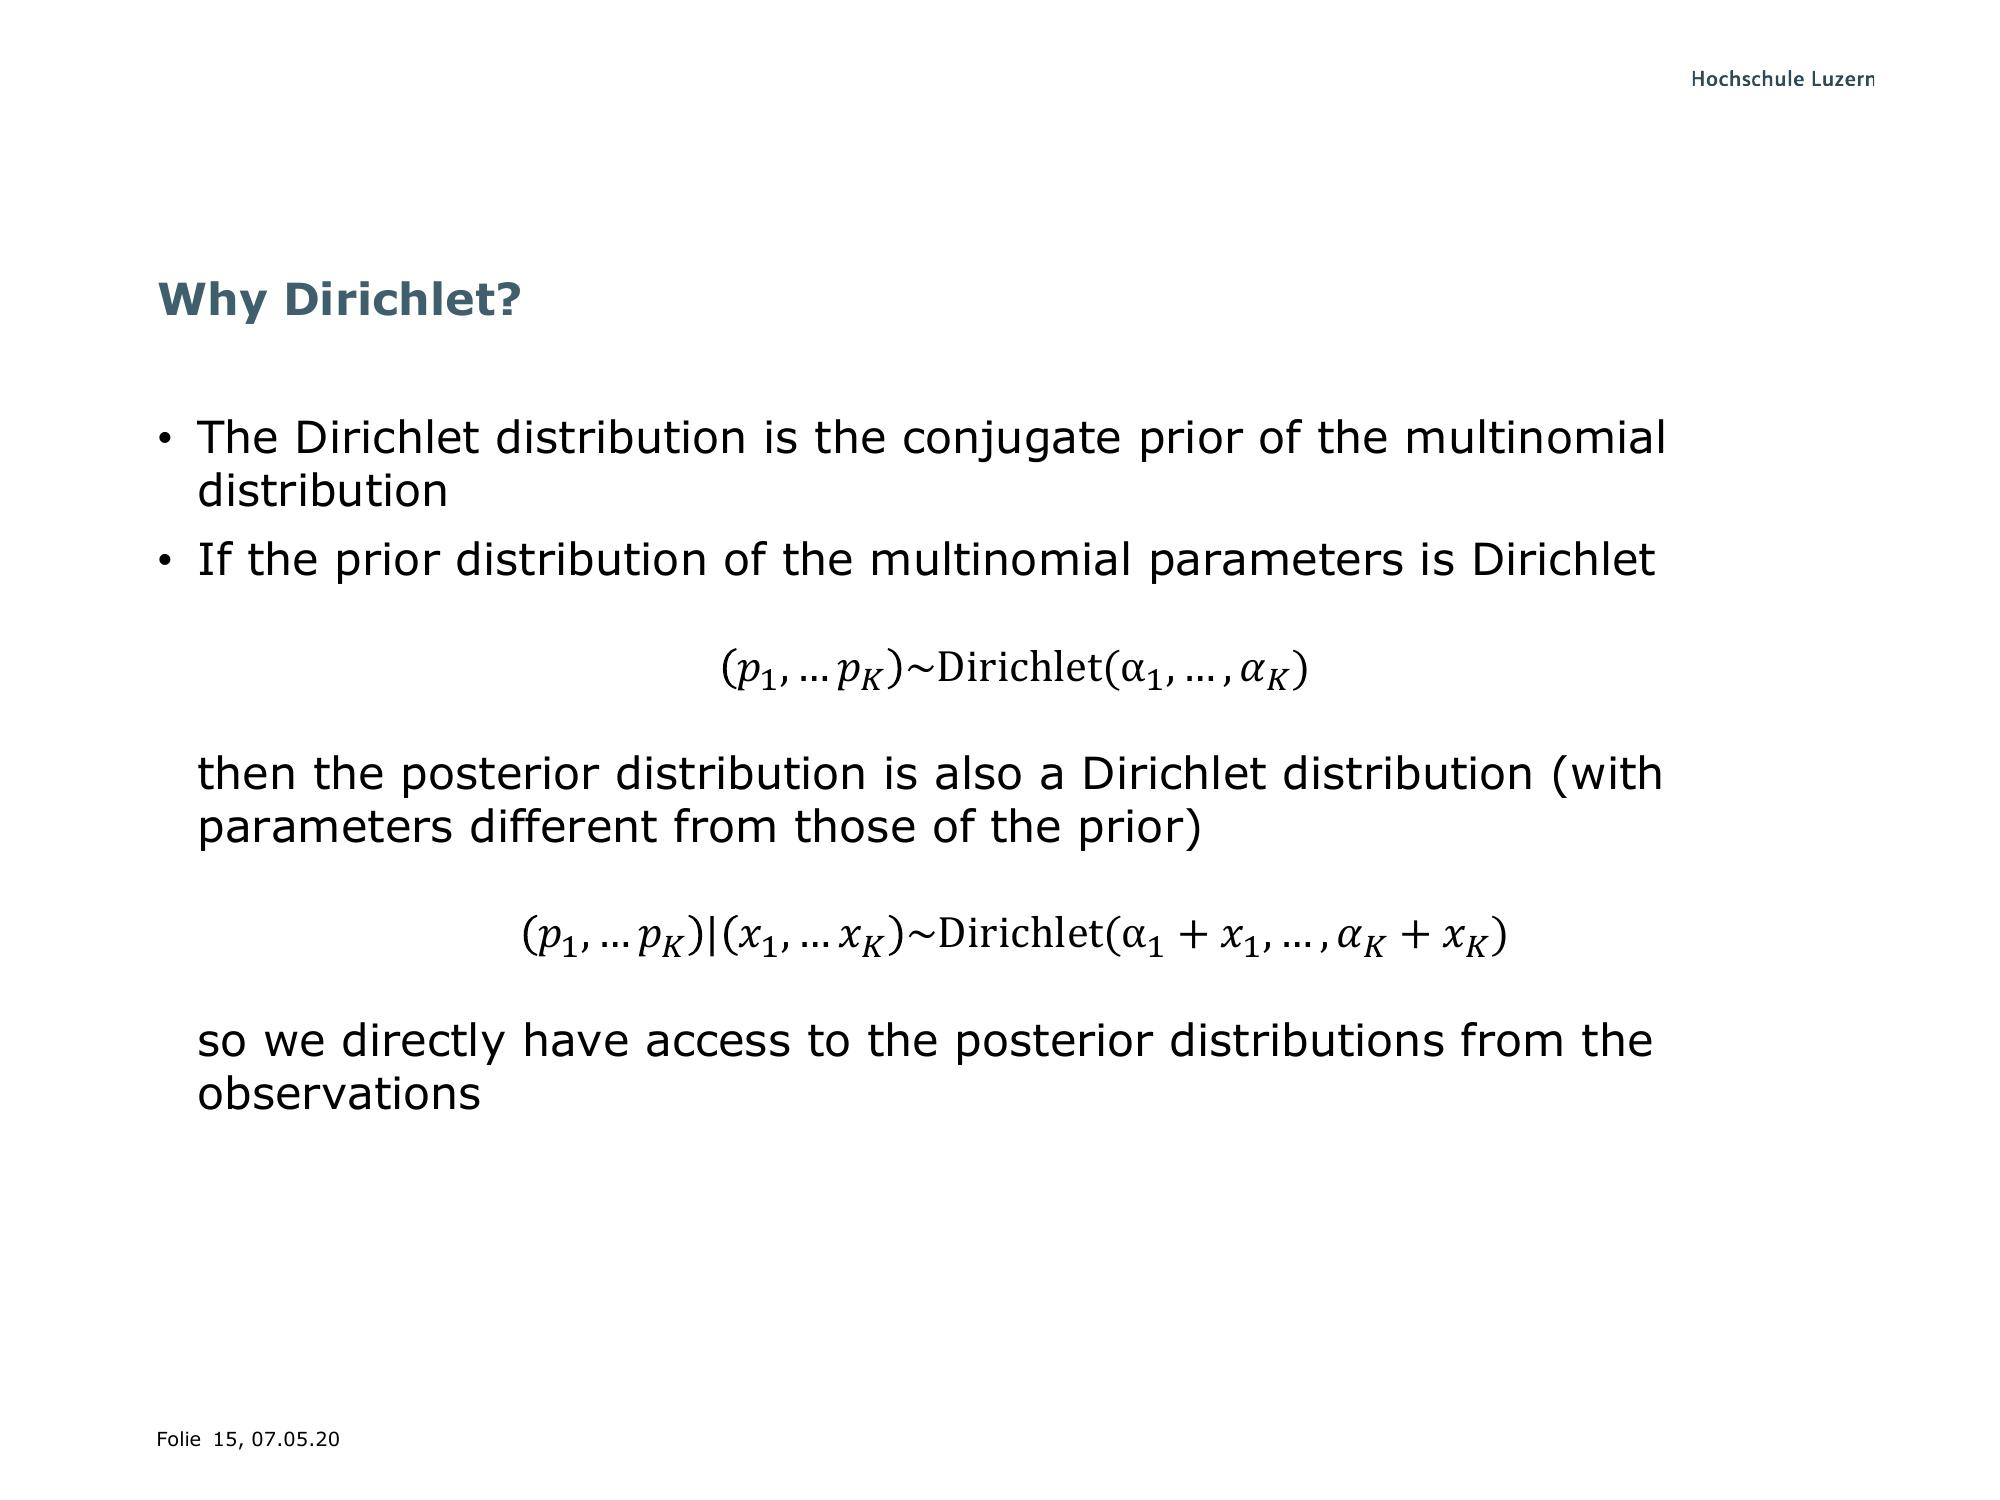Title: (135, 249, 540, 339)
